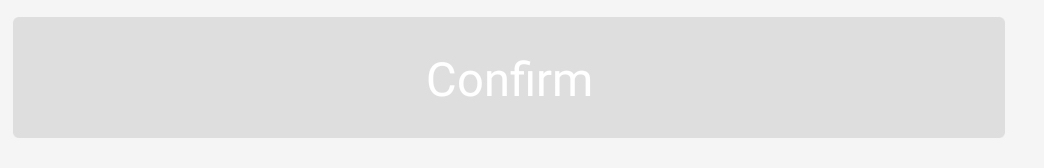Text: (422, 56, 599, 101)
